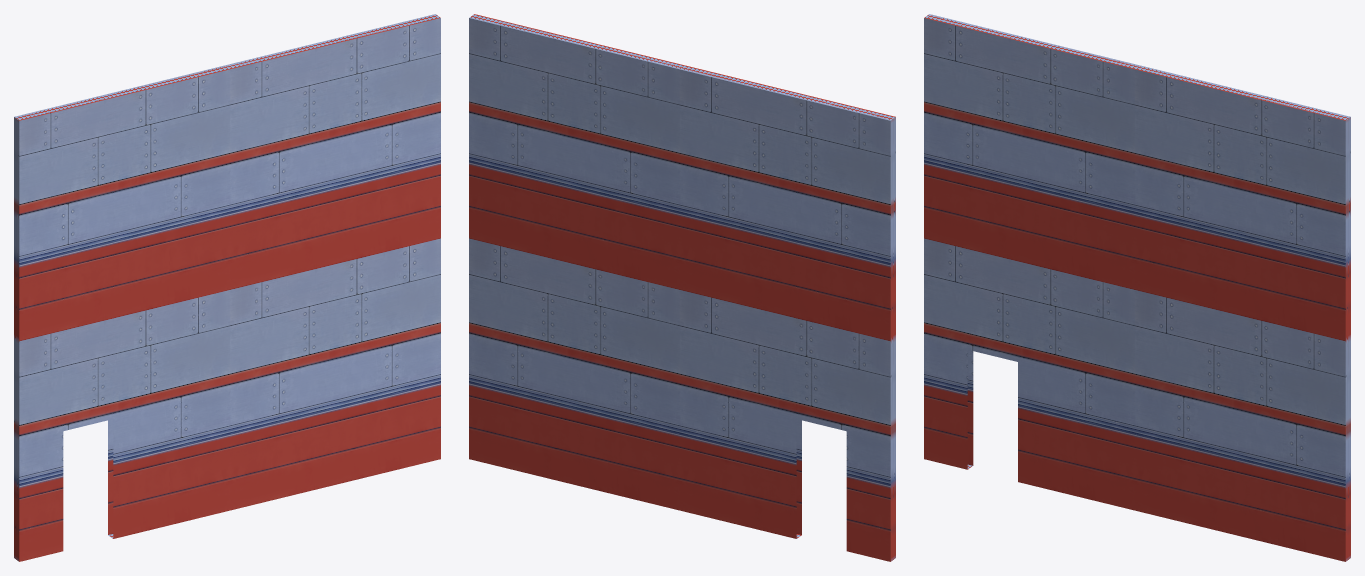
Rendered from WallWithSecretHole.FBX.
The picture shows the model from 3 angles, left to right: view 1: azimuth 30°, elevation 25°; view 2: azimuth 150°, elevation 25°; view 3: azimuth 330°, elevation 25°; orthographic projection.
Visible parts, largest first — view 1: Box001; view 2: Box001; view 3: Box001.
Boxes of the visible parts, bbox=[...] form: Box001: bbox=[14, 14, 440, 561]; Box001: bbox=[469, 14, 895, 561]; Box001: bbox=[924, 14, 1350, 561].
Size of the model in its own units: 900 by 900 by 20.
